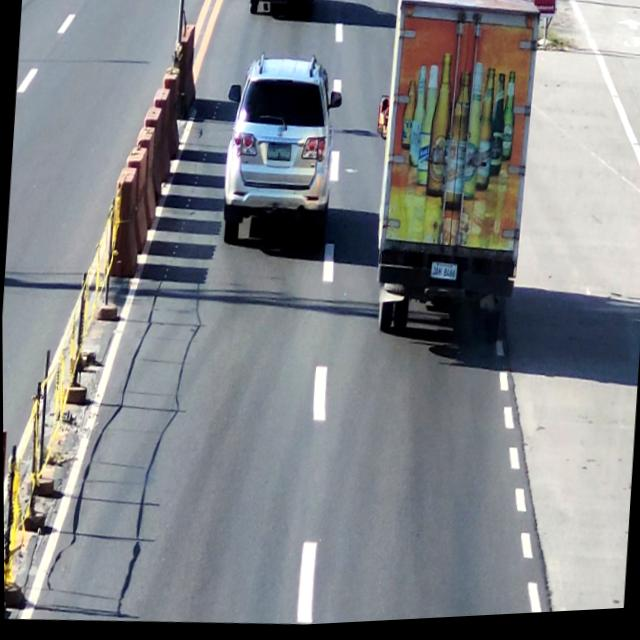Car: (212, 47, 347, 268), (246, 0, 318, 26)
License-Plate: (262, 140, 295, 169), (429, 264, 461, 288)
Truck: (368, 0, 540, 365)
